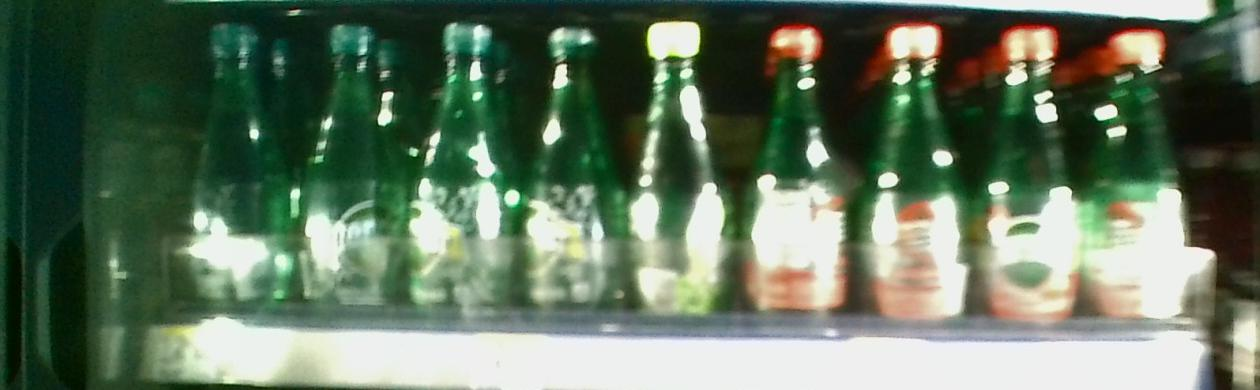bottle: (738, 19, 853, 325), (521, 23, 626, 334), (866, 25, 969, 338), (408, 19, 516, 314), (1088, 24, 1190, 332), (979, 26, 1081, 333), (187, 19, 292, 311), (302, 19, 398, 323), (634, 24, 728, 319)
